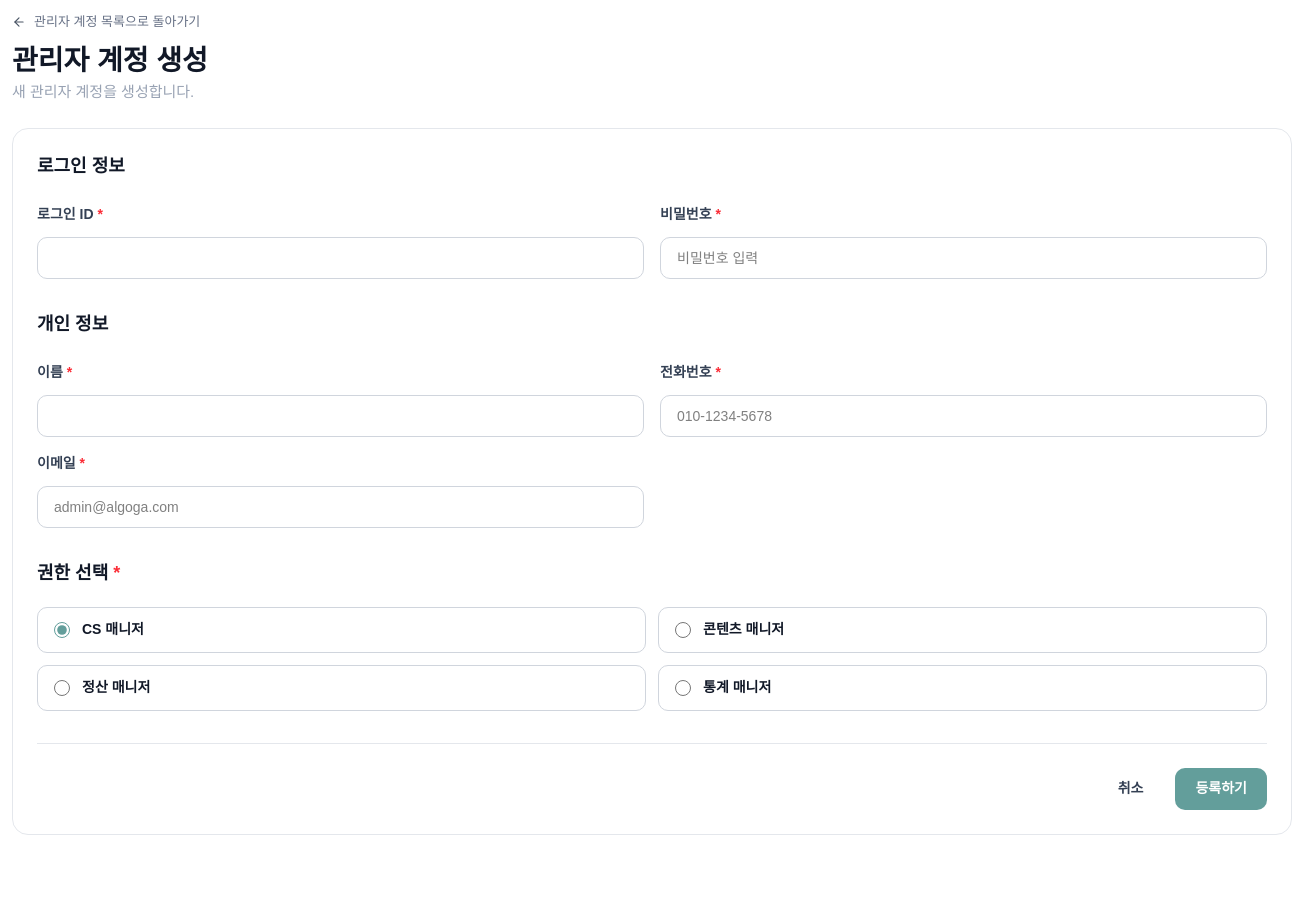
Test: 슈퍼어드민 관리자 계정 폼 테스트 › 필수 값을 입력하지 않고 제출하면 안내 문구가 보인다
The image size is (1292, 912).
Click the button "등록하기" at x=1221, y=789, box [1176,768,1267,810]
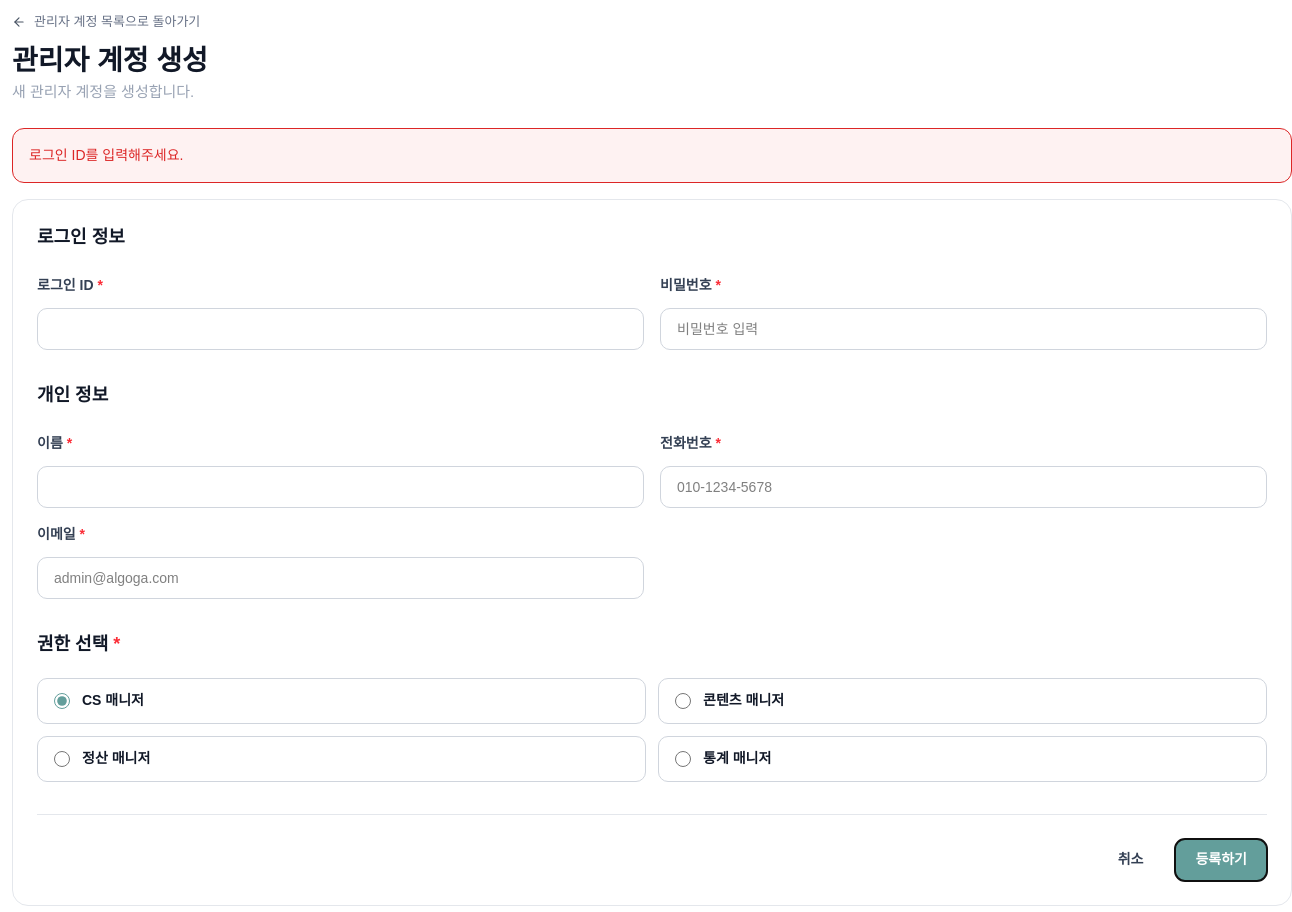
Expected: the text "로그인 ID를 입력해주세요." is shown, [12,128,1291,183]
